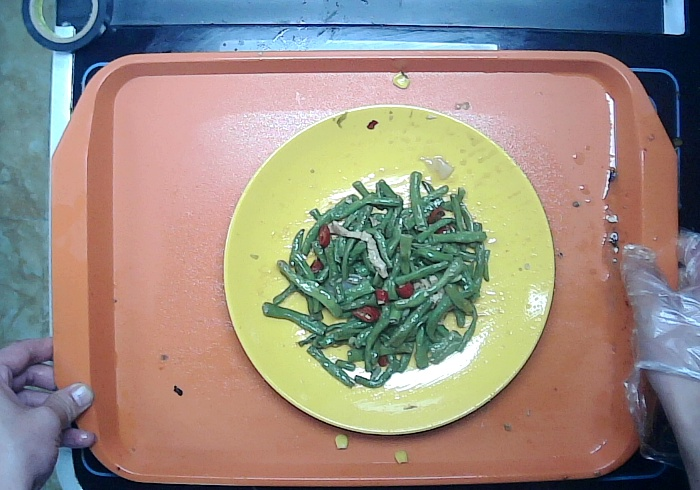HZYJPL-Huang_Se_Yuan_Pan: (221, 103, 557, 439)
